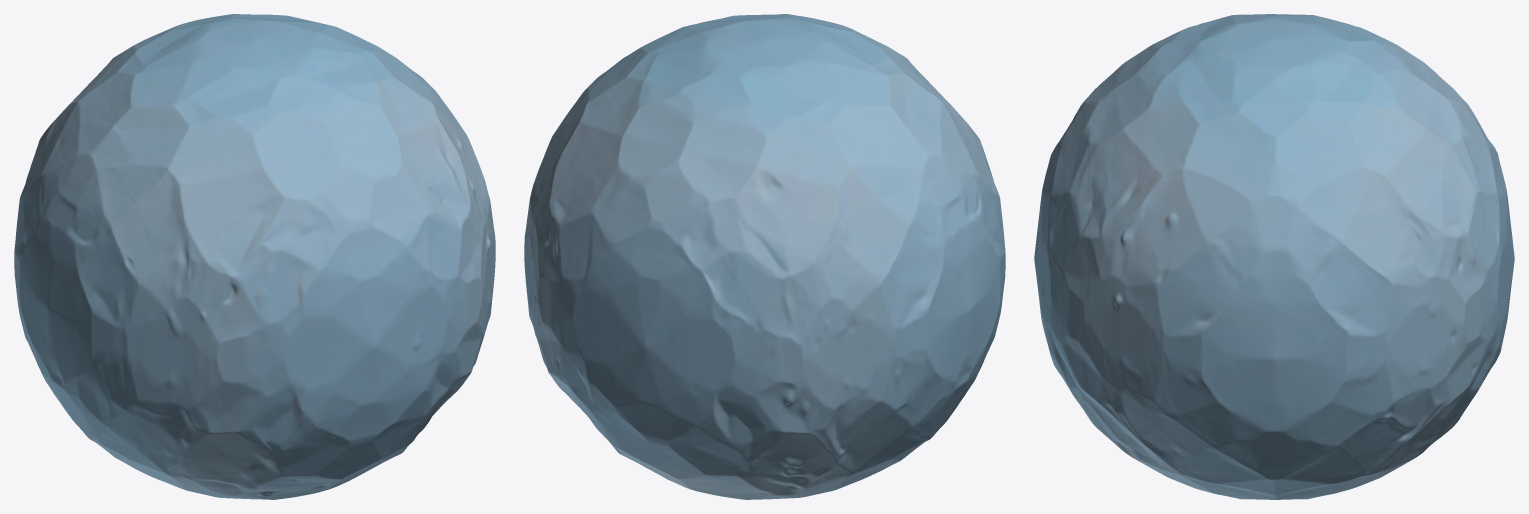
Rendered from detailed_realistic_model_crystalball_17.glb.
3 renders of one model, left to right at view 1: azimuth 30°, elevation 25°; view 2: azimuth 150°, elevation 25°; view 3: azimuth 270°, elevation 25°, orthographic.
Visible parts, largest first — view 1: tripo_node_61285fba-5648-4093-86f7-4acae305453b; view 2: tripo_node_61285fba-5648-4093-86f7-4acae305453b; view 3: tripo_node_61285fba-5648-4093-86f7-4acae305453b.
Part boxes in pixels (x1,y1,x2,y2): tripo_node_61285fba-5648-4093-86f7-4acae305453b: (14,14,495,499); tripo_node_61285fba-5648-4093-86f7-4acae305453b: (524,14,1005,499); tripo_node_61285fba-5648-4093-86f7-4acae305453b: (1034,14,1514,499).
Size of the model in its own units: 1 by 0.999 by 0.9994.
1 material, 1 textured.
